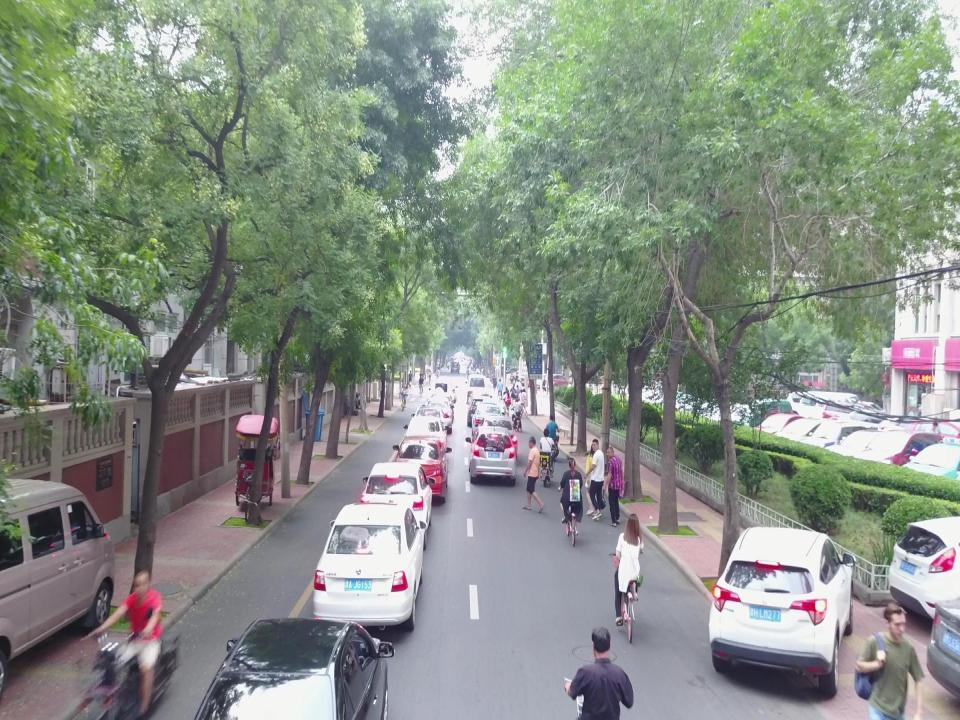car: (710, 525, 854, 698), (189, 616, 392, 720), (312, 502, 426, 632), (890, 514, 960, 626), (360, 463, 436, 550), (392, 436, 452, 506), (858, 435, 950, 472), (798, 422, 876, 463), (928, 598, 960, 695), (901, 436, 960, 488), (466, 429, 518, 485), (826, 432, 898, 466), (774, 416, 834, 455), (474, 415, 518, 461), (403, 416, 450, 459), (750, 412, 810, 442), (523, 438, 545, 515), (788, 392, 848, 419), (410, 406, 450, 442), (822, 394, 856, 428), (470, 406, 506, 437), (422, 398, 454, 431), (469, 396, 497, 427), (430, 389, 454, 422), (544, 375, 572, 392), (439, 379, 458, 404)
truck: (431, 381, 453, 408)
van: (0, 477, 117, 694), (720, 399, 794, 436), (466, 372, 488, 406), (450, 363, 460, 373)
